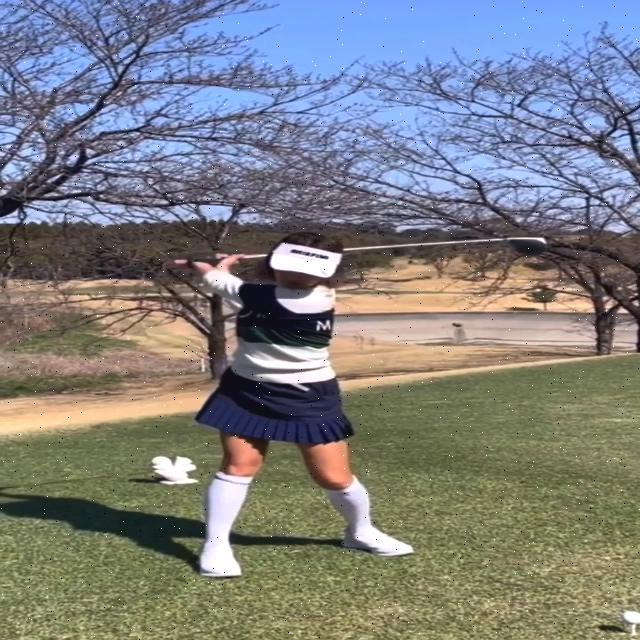golf ball: (622, 612, 640, 624)
golf club-handle: (167, 237, 549, 270)
golf club-head: (507, 236, 549, 256)
